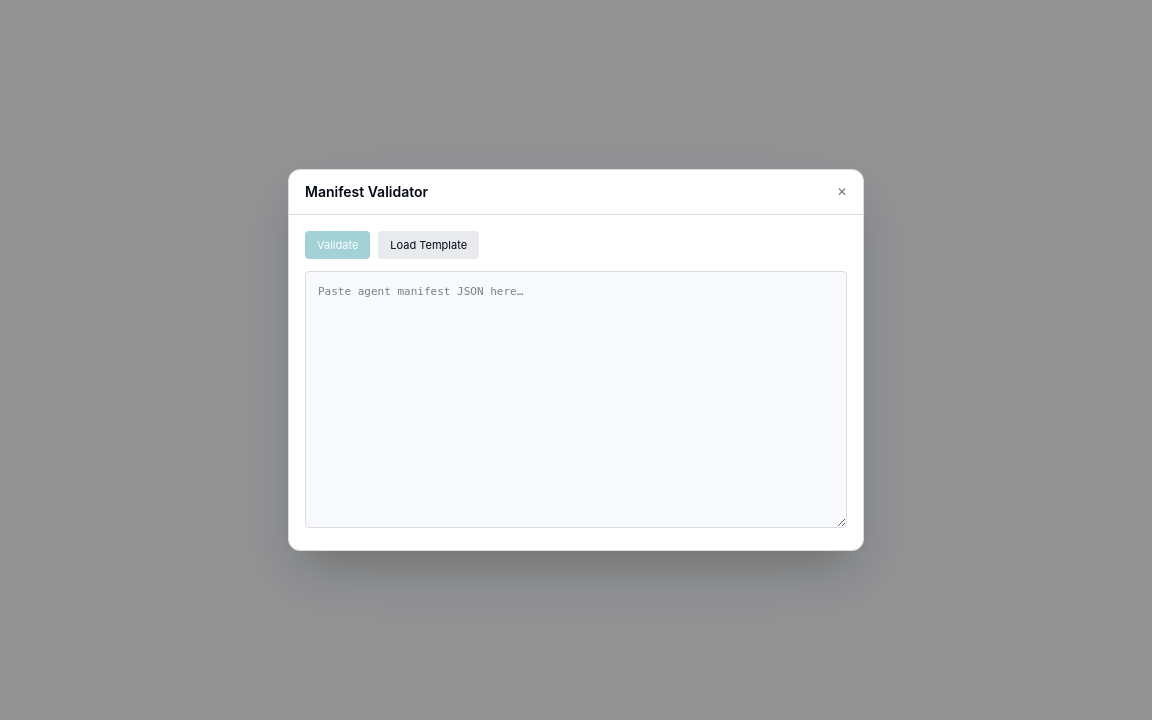
it: ManifestValidatorOverlay › shows parse error on invalid JSON
Type "not json" into the text box with test id "manifest-textarea".
click(576, 400); type("not json")  # box [305, 271, 847, 528]
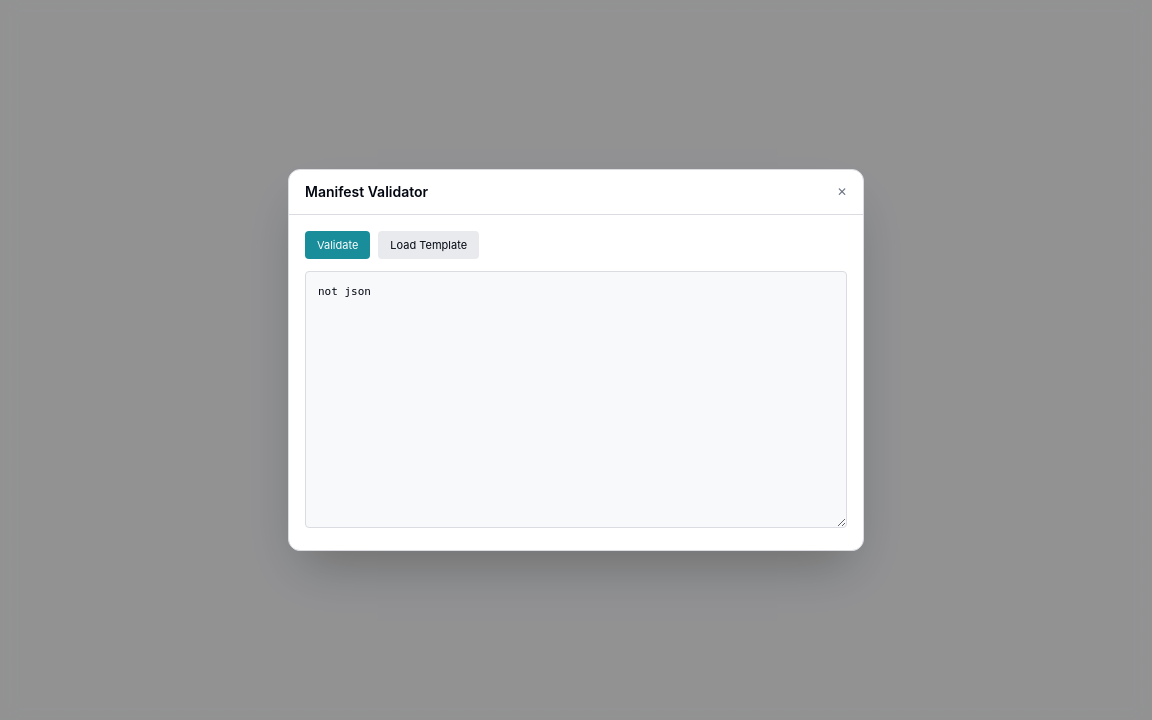
Click the button with test id "validate-btn".
click(338, 245)  # box [305, 231, 370, 259]
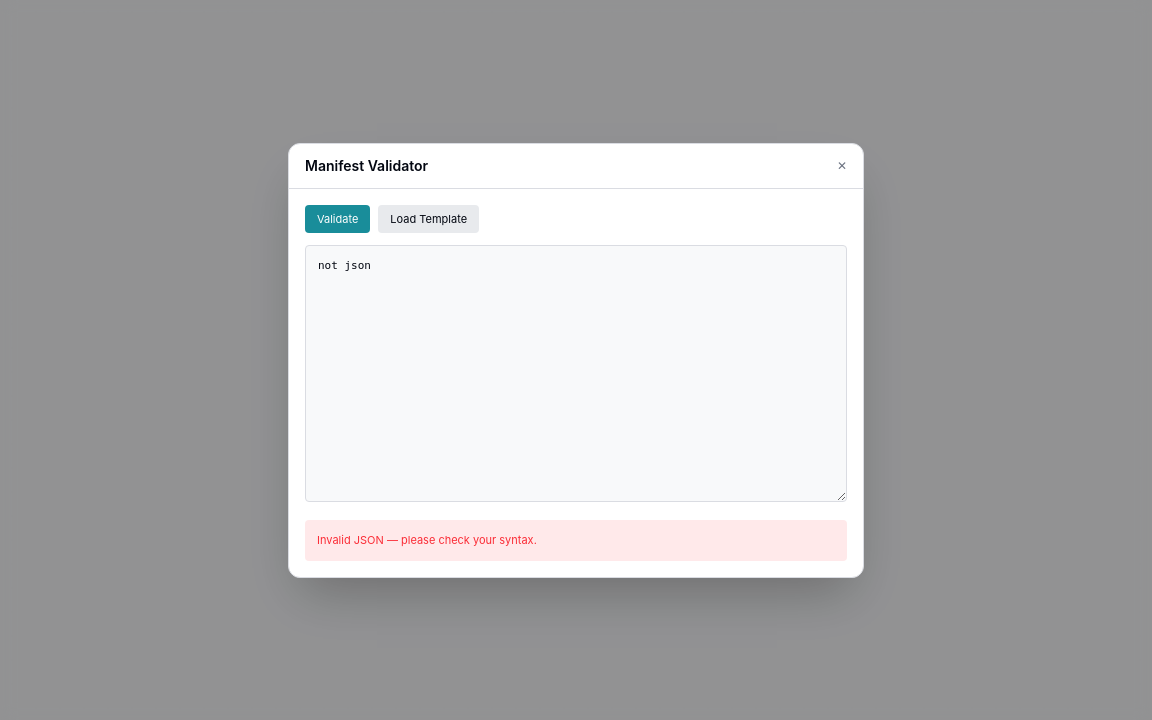
Expected: the text with test id "parse-error" shows "Invalid JSON", [317, 533, 537, 547]
